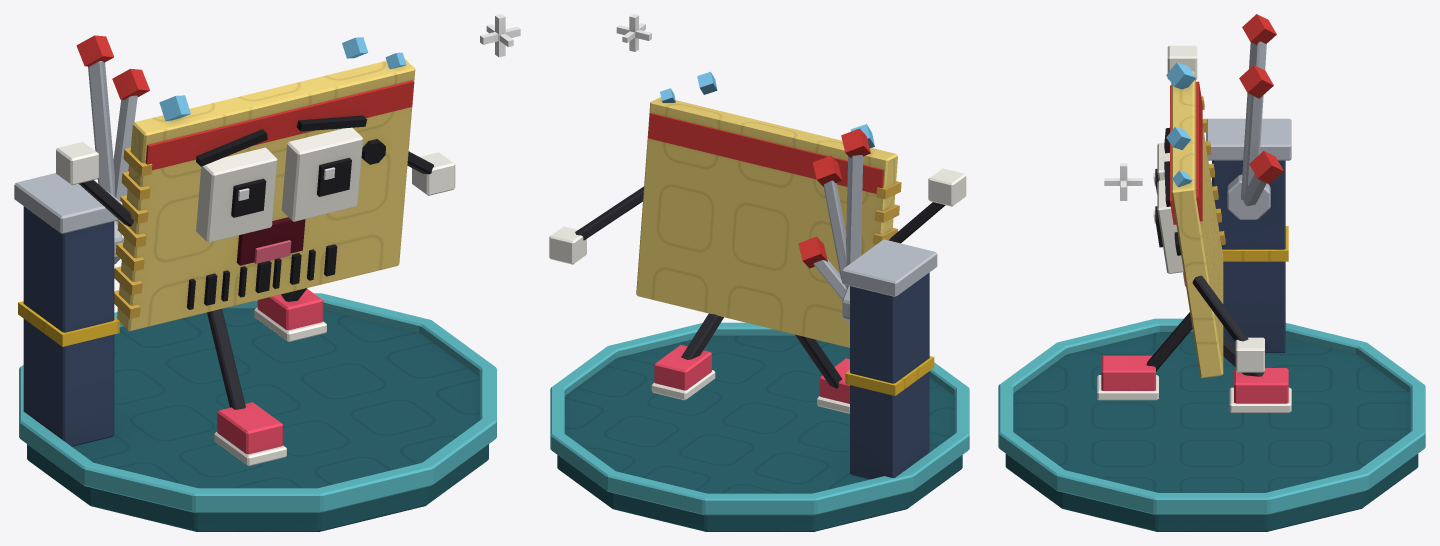
Rendered from RunawayTicket.fbx.
3 views of the same model, side by side, from view 1: azimuth 30°, elevation 25°; view 2: azimuth 150°, elevation 25°; view 3: azimuth 270°, elevation 25° (orthographic). The views are drawn at different scales.
Visible parts, largest first — view 1: Art_RunawayTicket_Stand, Art_RunawayTicket_Body, Art_RunawayTicket_EyeR, Art_RunawayTicket_EyeL, Art_RunawayTicket_Grabber, Art_RunawayTicket_LegL, Art_RunawayTicket_LegR, Art_RunawayTicket_ArmL, Art_RunawayTicket_ArmR; view 2: Art_RunawayTicket_Stand, Art_RunawayTicket_Body, Art_RunawayTicket_Grabber, Art_RunawayTicket_LegR, Art_RunawayTicket_ArmR, Art_RunawayTicket_LegL, Art_RunawayTicket_ArmL; view 3: Art_RunawayTicket_Stand, Art_RunawayTicket_Body, Art_RunawayTicket_Grabber, Art_RunawayTicket_LegL, Art_RunawayTicket_LegR, Art_RunawayTicket_ArmR, Art_RunawayTicket_EyeR, Art_RunawayTicket_ArmL.
Part boxes in pixels (left/top/right/bottom): Art_RunawayTicket_Stand: left=14, top=14, right=520, bottom=531; Art_RunawayTicket_Body: left=114, top=37, right=415, bottom=331; Art_RunawayTicket_EyeR: left=281, top=127, right=363, bottom=221; Art_RunawayTicket_EyeL: left=196, top=147, right=277, bottom=242; Art_RunawayTicket_Grabber: left=76, top=35, right=149, bottom=235; Art_RunawayTicket_LegL: left=207, top=309, right=286, bottom=466; Art_RunawayTicket_LegR: left=254, top=288, right=326, bottom=342; Art_RunawayTicket_ArmL: left=56, top=141, right=133, bottom=226; Art_RunawayTicket_ArmR: left=407, top=151, right=455, bottom=195; Art_RunawayTicket_Stand: left=550, top=14, right=969, bottom=531; Art_RunawayTicket_Body: left=636, top=71, right=901, bottom=347; Art_RunawayTicket_Grabber: left=798, top=128, right=870, bottom=299; Art_RunawayTicket_LegR: left=651, top=313, right=723, bottom=400; Art_RunawayTicket_ArmR: left=549, top=186, right=643, bottom=264; Art_RunawayTicket_LegL: left=795, top=334, right=849, bottom=413; Art_RunawayTicket_ArmL: left=889, top=168, right=966, bottom=243; Art_RunawayTicket_Stand: left=998, top=118, right=1425, bottom=531; Art_RunawayTicket_Body: left=1164, top=62, right=1225, bottom=378; Art_RunawayTicket_Grabber: left=1239, top=14, right=1283, bottom=206; Art_RunawayTicket_LegL: left=1097, top=312, right=1192, bottom=400; Art_RunawayTicket_LegR: left=1223, top=336, right=1291, bottom=412; Art_RunawayTicket_ArmR: left=1192, top=275, right=1264, bottom=372; Art_RunawayTicket_EyeR: left=1153, top=180, right=1183, bottom=273; Art_RunawayTicket_ArmL: left=1167, top=45, right=1197, bottom=79.
Bounding box in the file's own units: 2.96 × 2.78 × 2.9.
